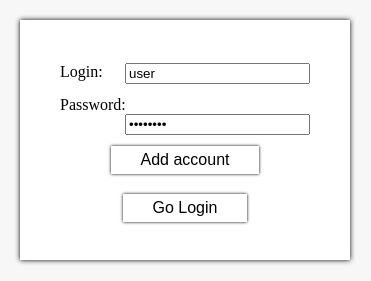
it: registerAccount when account created
Click the button "Add account".
click(185, 160)  # box [110,146,260,174]
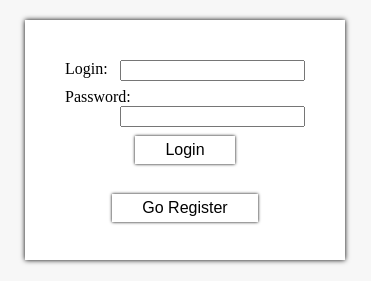
Expected: the number of "withRouter(LoginPage)" components is 1
